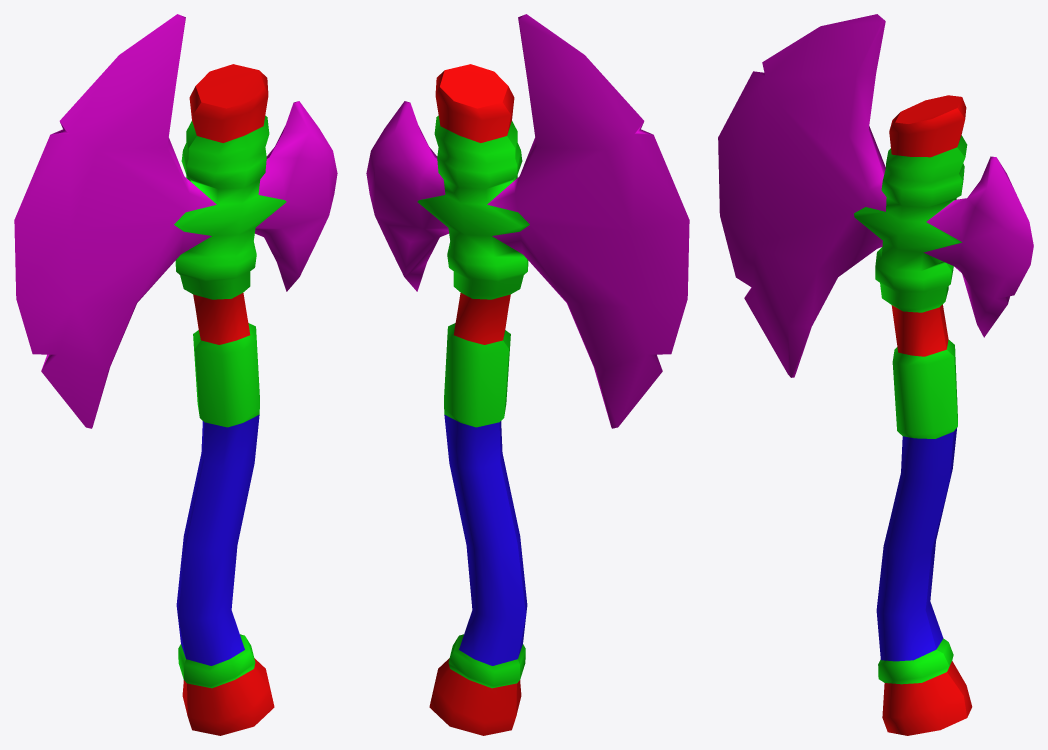
The model's file is Axe.fbx.
The picture shows the model from 3 angles, left to right: view 1: azimuth 30°, elevation 25°; view 2: azimuth 150°, elevation 25°; view 3: azimuth 330°, elevation 25°; orthographic projection. The views are drawn at different scales.
Visible parts, largest first — view 1: Axe_01_low; view 2: Axe_01_low; view 3: Axe_01_low.
Boxes of the visible parts, bbox=[...] form: Axe_01_low: bbox=[14, 14, 337, 735]; Axe_01_low: bbox=[366, 14, 689, 735]; Axe_01_low: bbox=[718, 14, 1033, 735].
Size of the model in its own units: 13.02 by 27.72 by 3.33.
